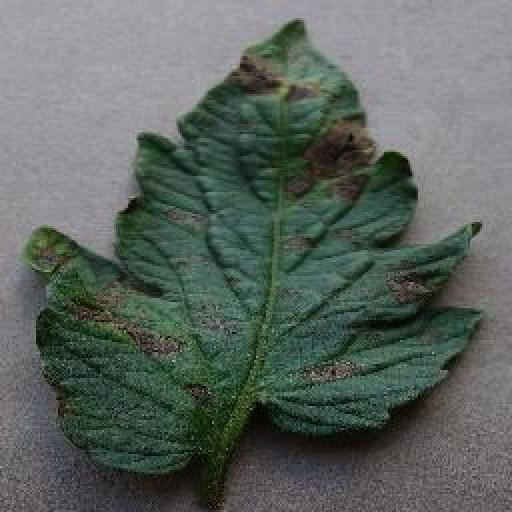disease_tomato: (22, 16, 480, 470)
